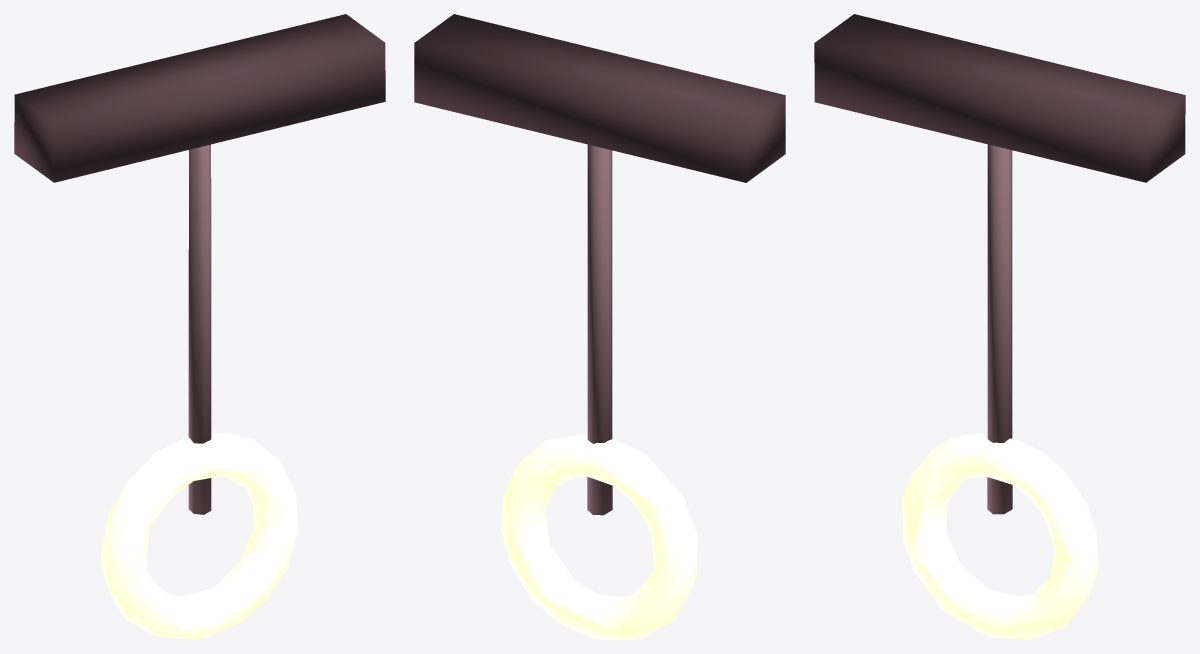
File: SM_Schlachthof_Hook_LOD3.fbx
The picture shows the model from 3 angles, left to right: view 1: azimuth 30°, elevation 25°; view 2: azimuth 150°, elevation 25°; view 3: azimuth 330°, elevation 25°; orthographic projection.
Visible parts, largest first — view 1: SM_Schlachthof_Hook_LOD3; view 2: SM_Schlachthof_Hook_LOD3; view 3: SM_Schlachthof_Hook_LOD3.
Boxes of the visible parts, bbox=[...] form: SM_Schlachthof_Hook_LOD3: bbox=[14, 14, 385, 639]; SM_Schlachthof_Hook_LOD3: bbox=[414, 14, 785, 639]; SM_Schlachthof_Hook_LOD3: bbox=[814, 14, 1185, 639].
Bounding box in the file's own units: 1.39 × 2.27 × 0.2868.
